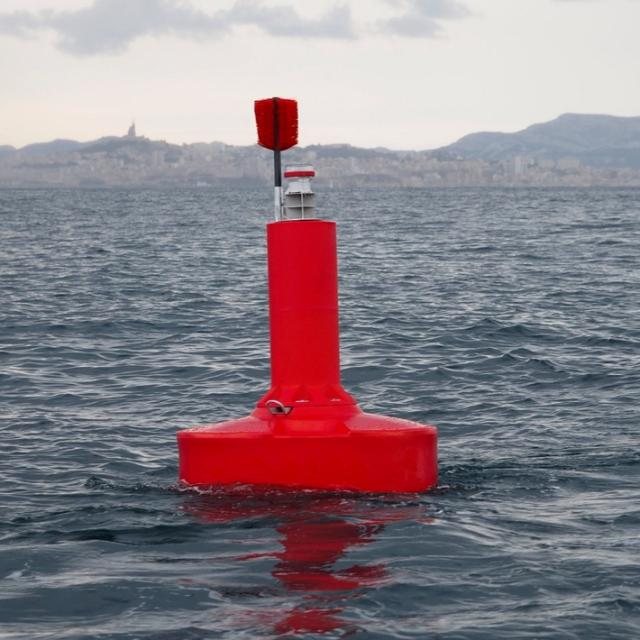buoy: (166, 88, 446, 502)
